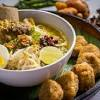soto: (1, 4, 73, 78)
